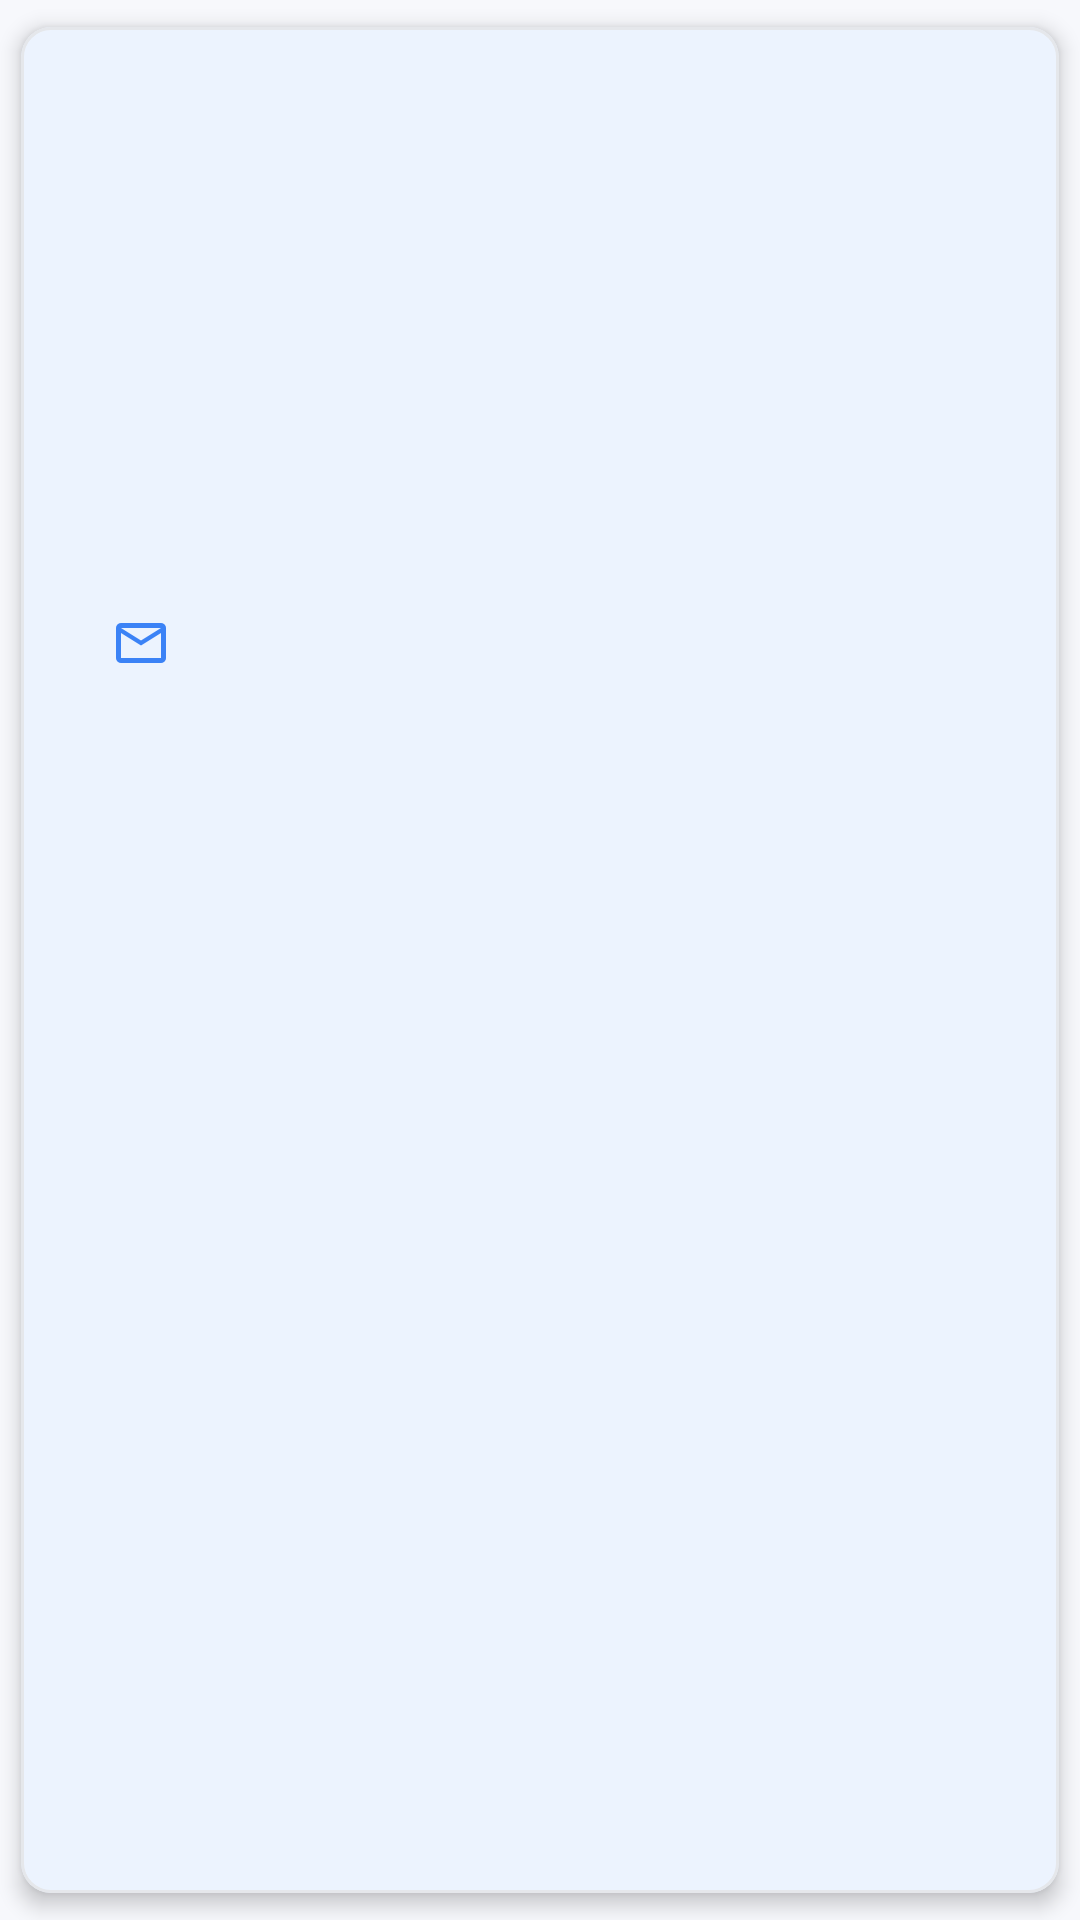

Named icons in this screenshot (1080px x 1920px) and their bounding boxes, {"x1": x1, "y1": y1, "x2": x2, "y2": y2}:
email: {"x1": 116, "y1": 623, "x2": 166, "y2": 663}
